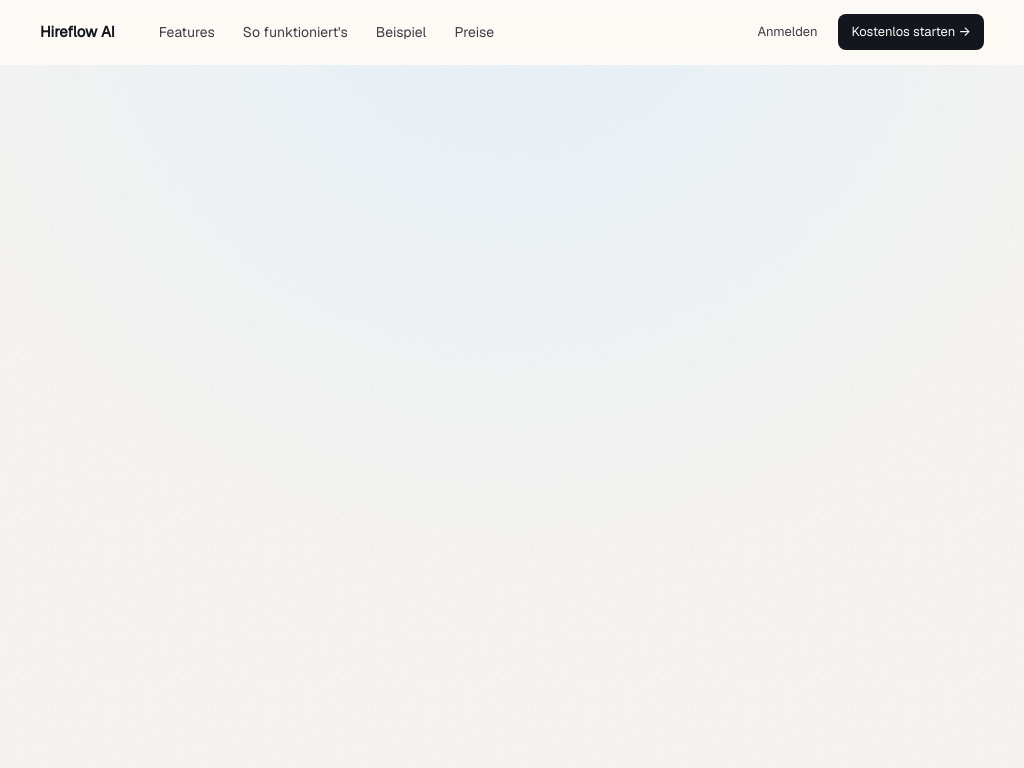
Test: LandingComponent › still closes the login modal through the explicit close button
Click the button with class "btn--ghost": (788, 32) [745,14,830,50]
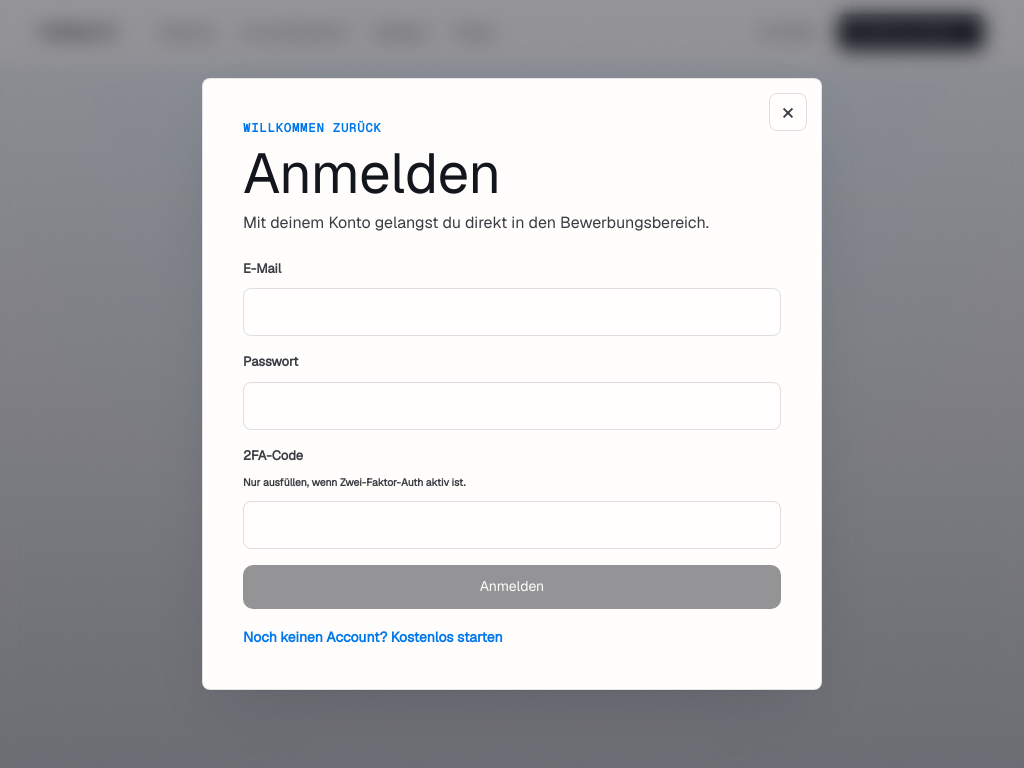
Click the button with class "modal__close": (788, 112) [769,93,807,131]
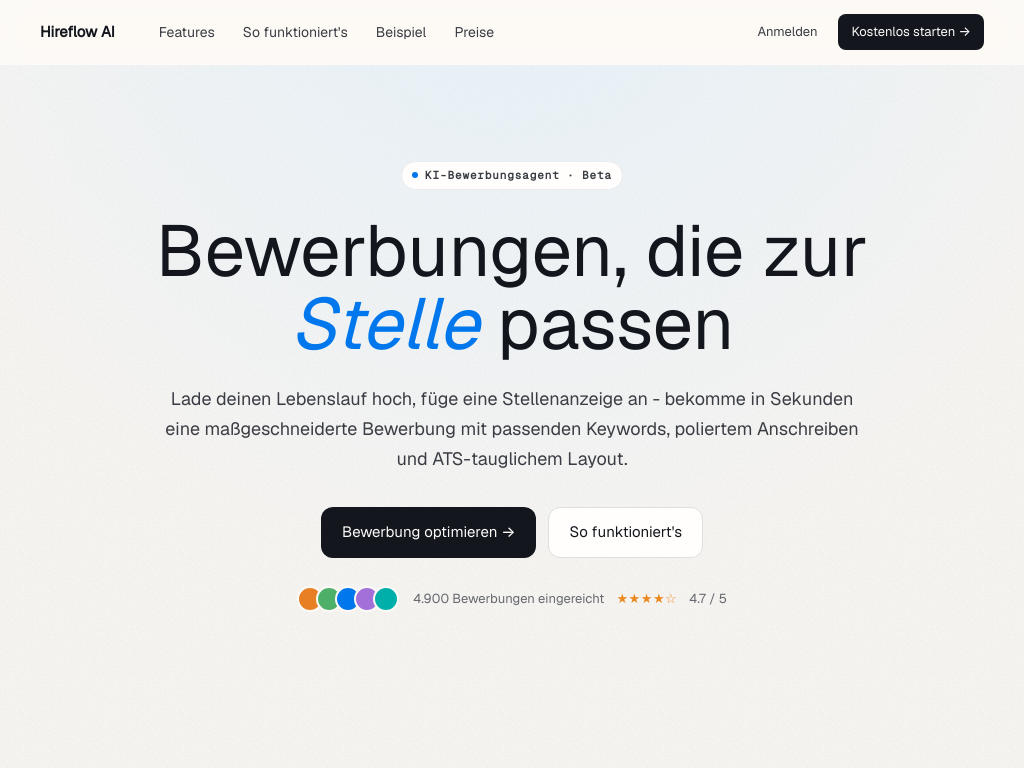
expect the button "×" is gone: met
